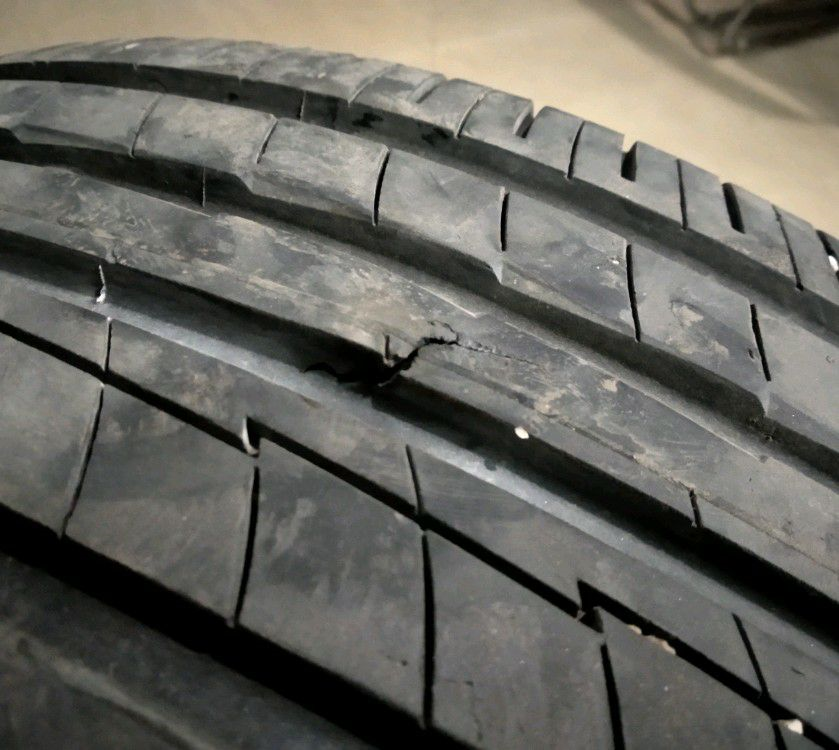tr: (287, 319, 483, 443)
